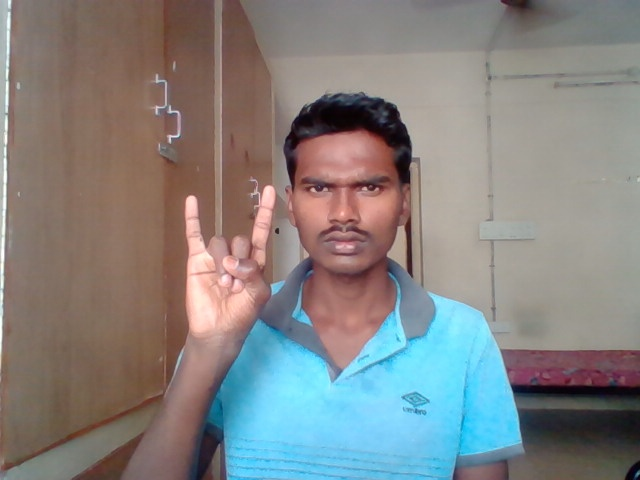I Love You: (181, 181, 276, 338)
